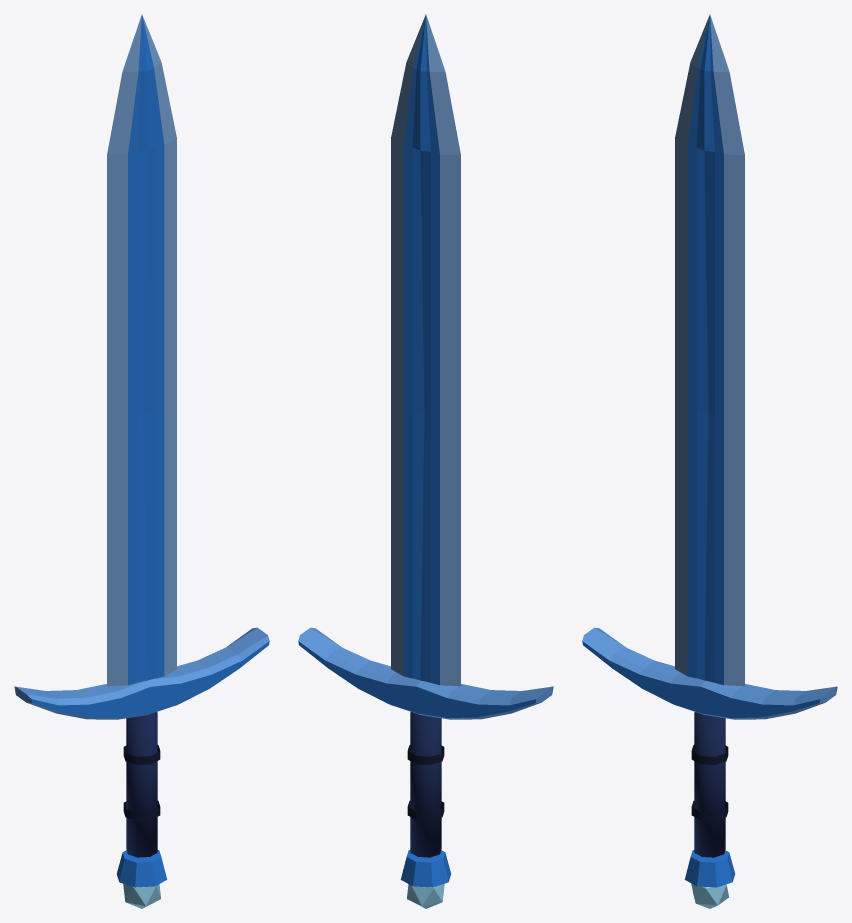
File: cobalt_broadsword.glb
3 views of the same model, side by side, from view 1: azimuth 30°, elevation 25°; view 2: azimuth 150°, elevation 25°; view 3: azimuth 330°, elevation 25° (orthographic).
Visible parts, largest first — view 1: cobalt_broadsword_v0; view 2: cobalt_broadsword_v0; view 3: cobalt_broadsword_v0.
Part boxes in pixels (box(x1,y1,x2,y2)): cobalt_broadsword_v0: box(14, 14, 269, 908); cobalt_broadsword_v0: box(298, 14, 553, 908); cobalt_broadsword_v0: box(582, 14, 837, 908).
Bounding box in the file's own units: 0.3623 × 1.28 × 0.068.
